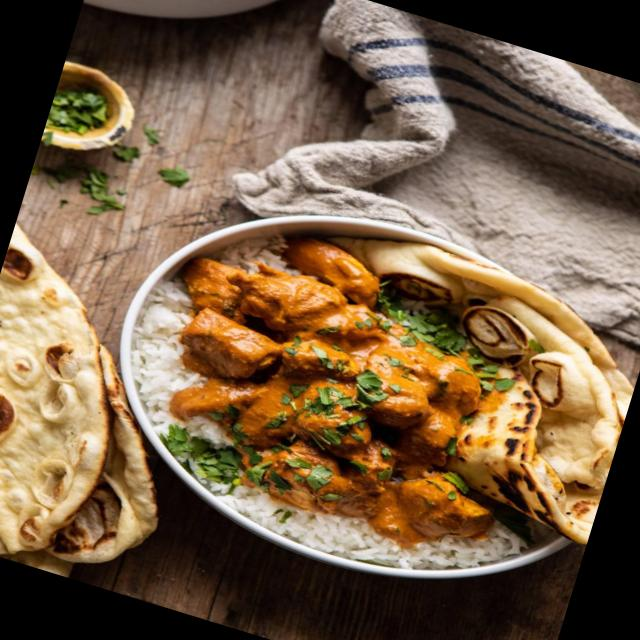chicken: (167, 225, 532, 532)
roti: (0, 239, 186, 586), (497, 293, 640, 536)
